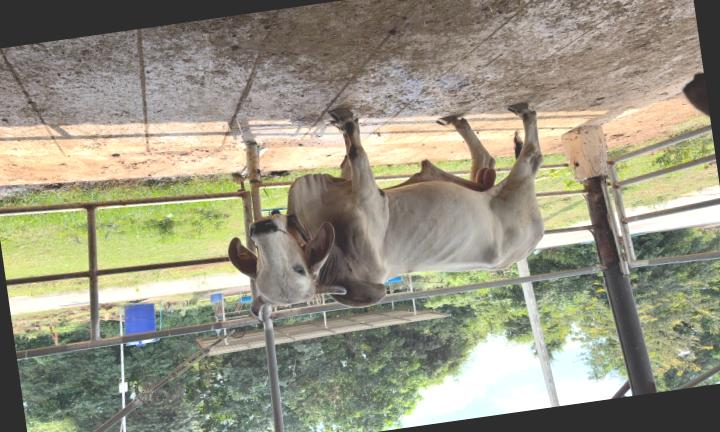Brahman: (228, 104, 544, 316)
